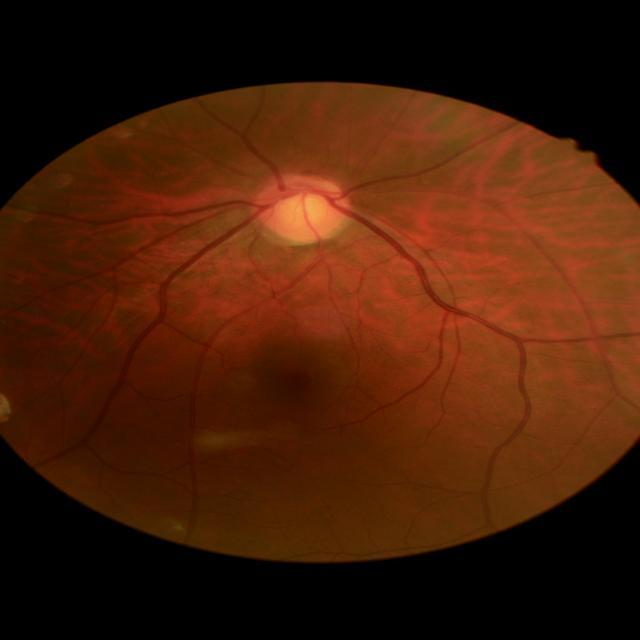cup: (274, 187, 332, 223)
disk: (253, 172, 350, 240)
